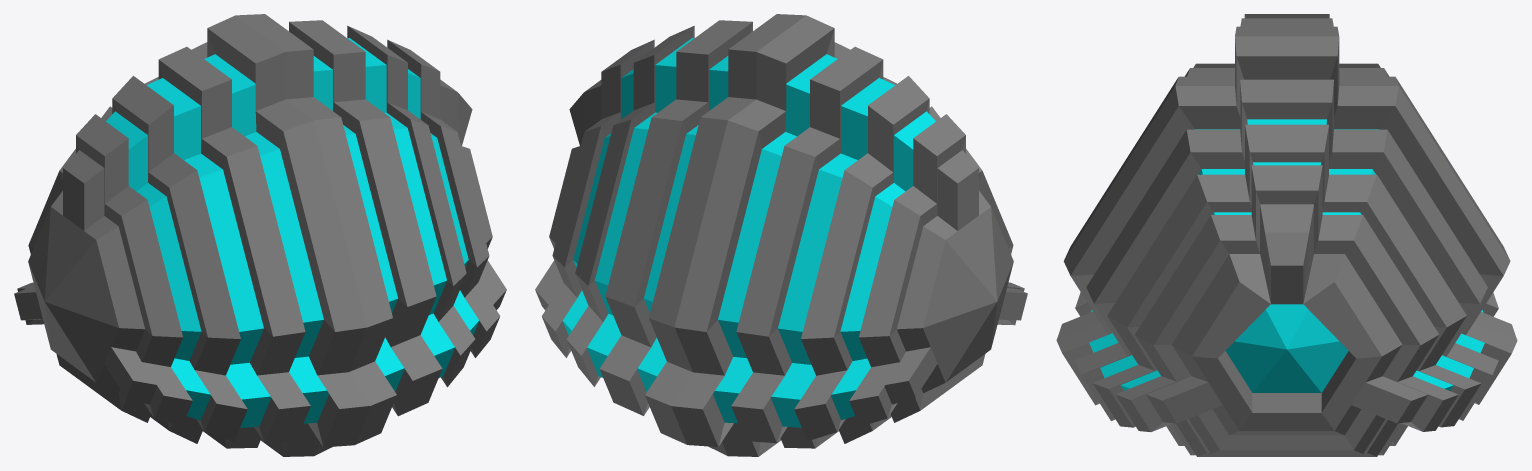
The model's file is Shield Cannon.fbx.
3 renders of one model, left to right at view 1: azimuth 30°, elevation 25°; view 2: azimuth 150°, elevation 25°; view 3: azimuth 270°, elevation 25°, orthographic. The views are drawn at different scales.
Visible parts, largest first — view 1: Lazer_Cannon; view 2: Lazer_Cannon; view 3: Lazer_Cannon.
Boxes of the visible parts, x1,y1,x2,y2 form: Lazer_Cannon: (14, 14, 506, 456); Lazer_Cannon: (535, 14, 1027, 456); Lazer_Cannon: (1056, 14, 1517, 456).
Size of the model in its own units: 24.59 by 21.45 by 22.37.
